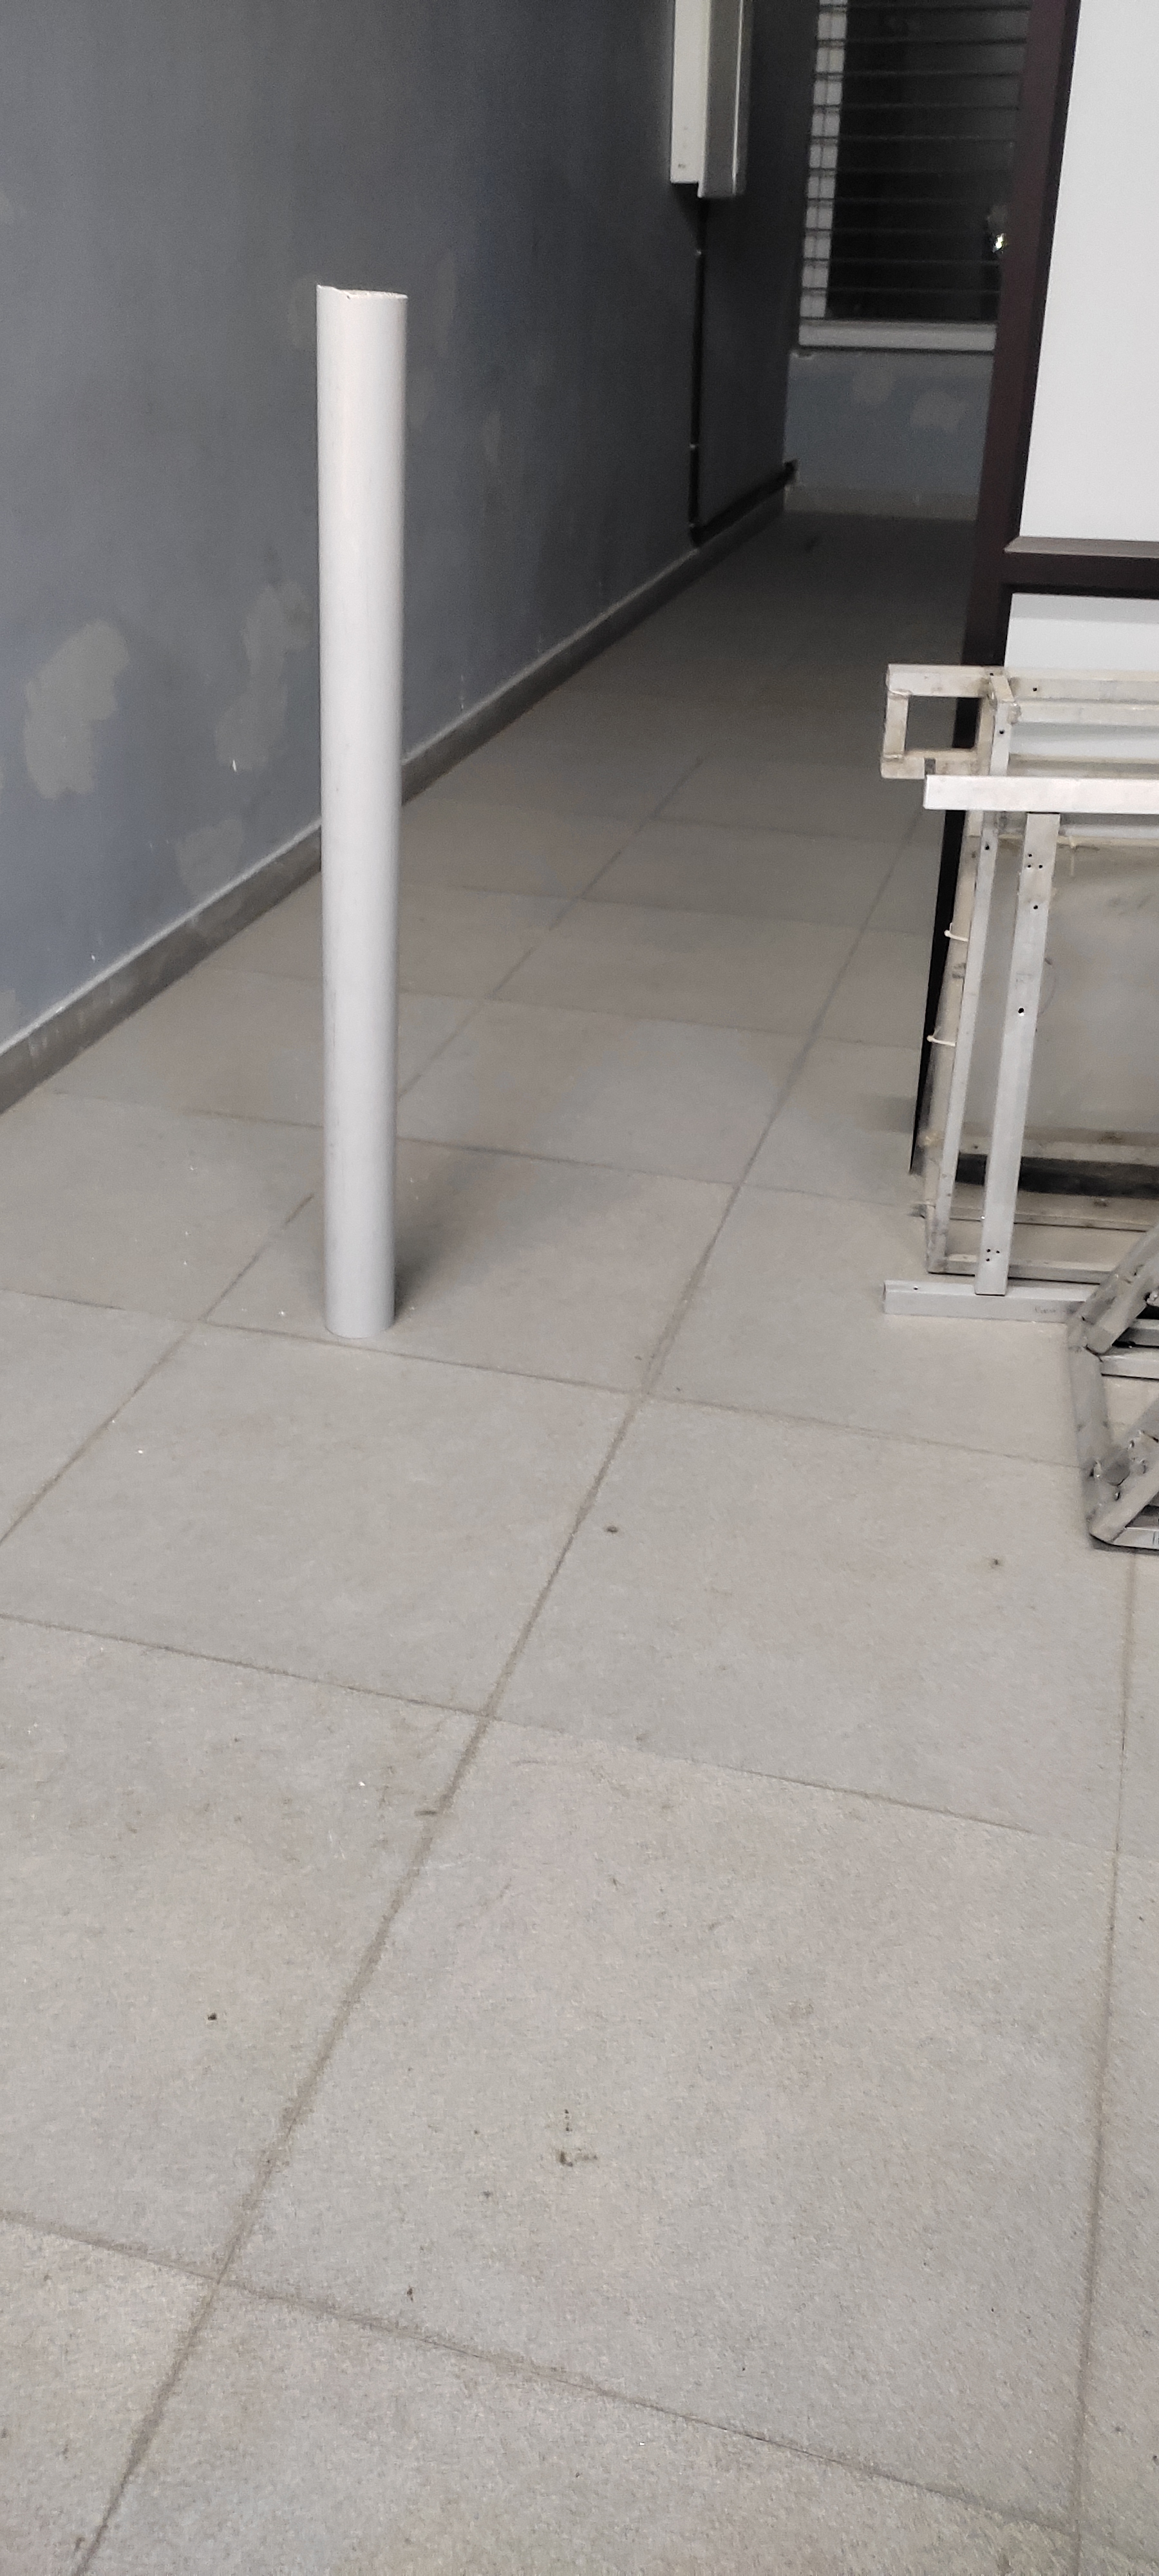pole: (520, 687, 714, 1649)
